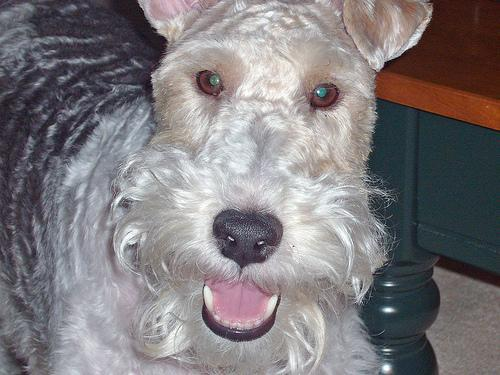wire-haired_fox_terrier: (0, 1, 432, 374)
